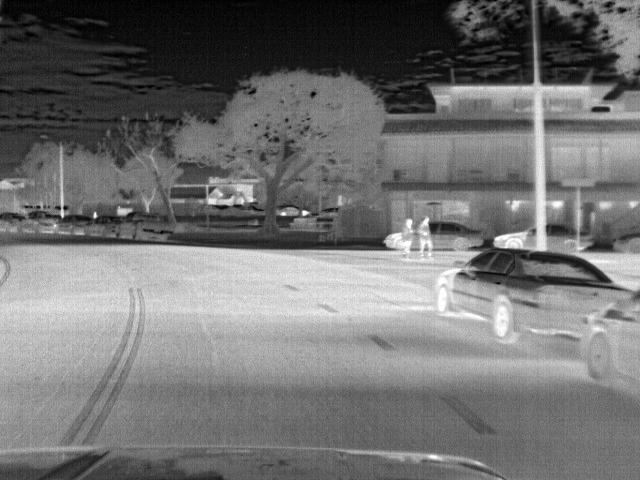car: (429, 245, 629, 340), (585, 291, 637, 388), (431, 221, 485, 251), (117, 212, 168, 243), (546, 222, 598, 250), (16, 208, 60, 236), (491, 224, 536, 250), (85, 215, 122, 239), (54, 213, 92, 235), (0, 209, 26, 238), (214, 200, 246, 218), (381, 229, 405, 249), (275, 204, 302, 218)
person: (401, 218, 416, 252), (418, 218, 432, 254)
